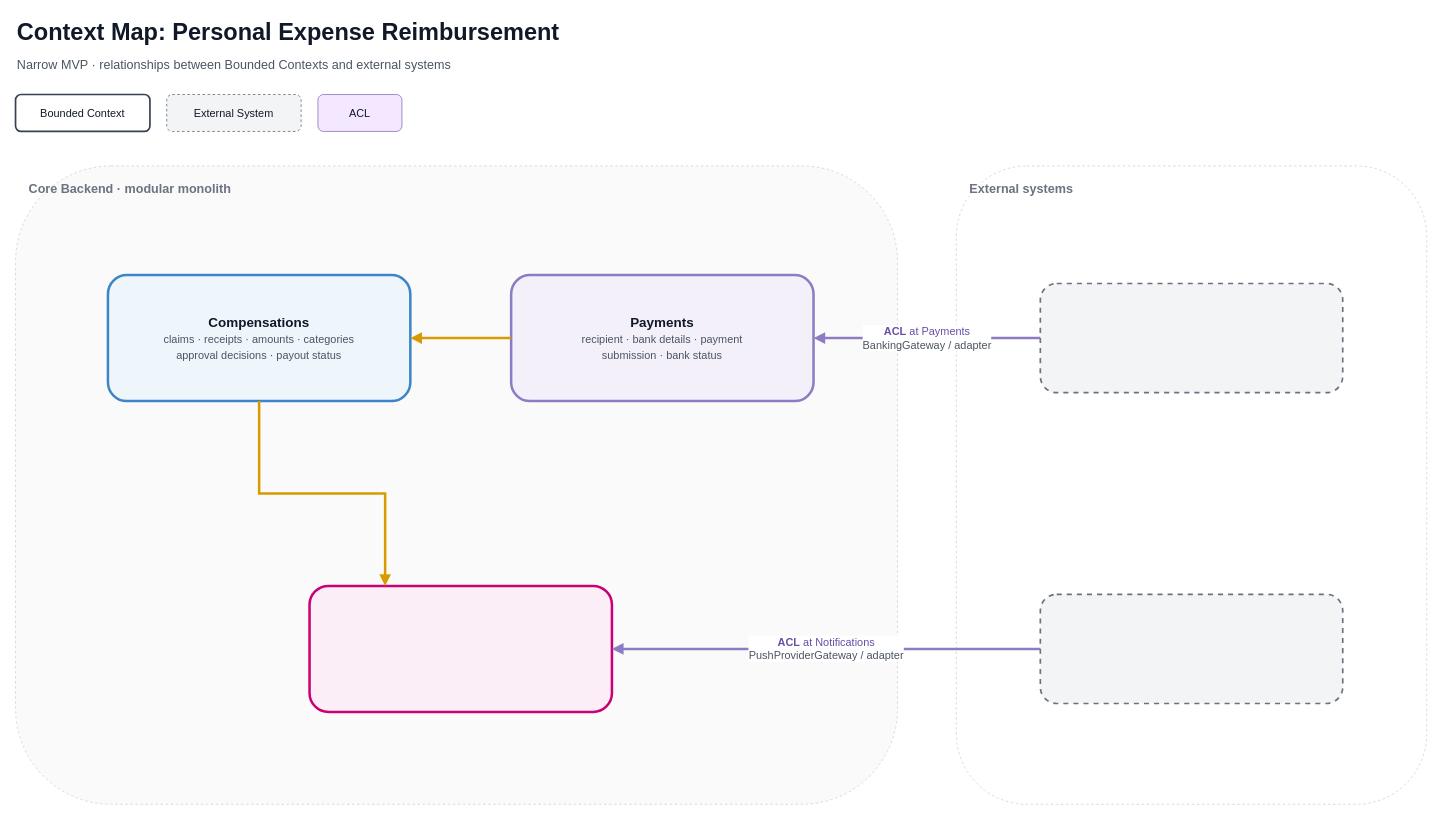
This 1441x819 diagram has some shape labels left out. Here are the shapes that lost their labels. From the top down, the centre of each, then its label:
At (x=1191, y=337): "Banking / Payment System external payment model and API".
At (x=460, y=648): "Notifications recipient · push channel message · delivery status".
At (x=1191, y=648): "Notification Service external push provider".
